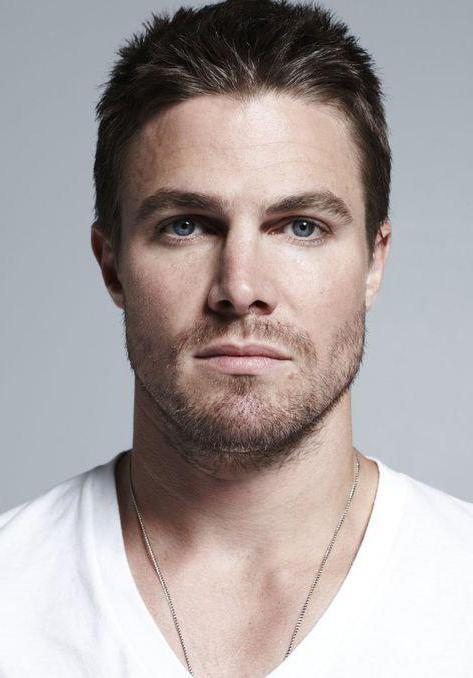Sober: (132, 109, 372, 416)
